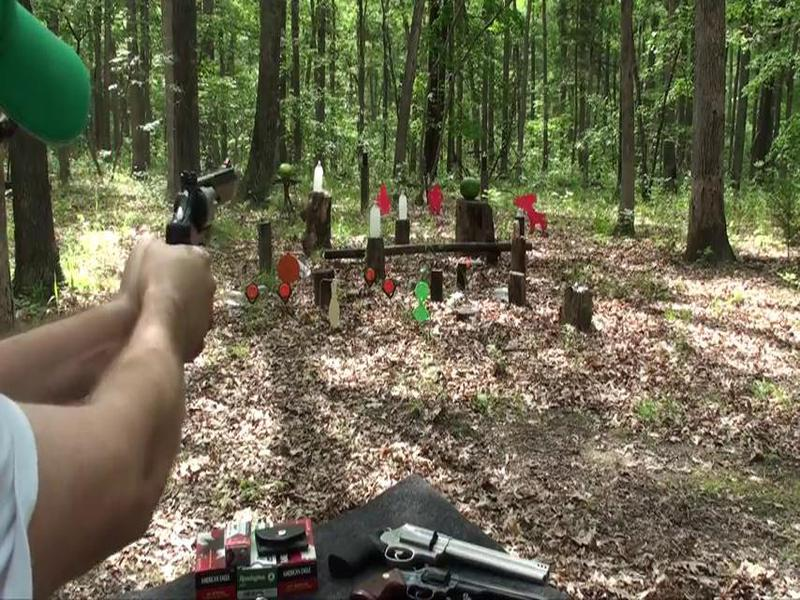Revolver: (152, 173, 270, 280)
